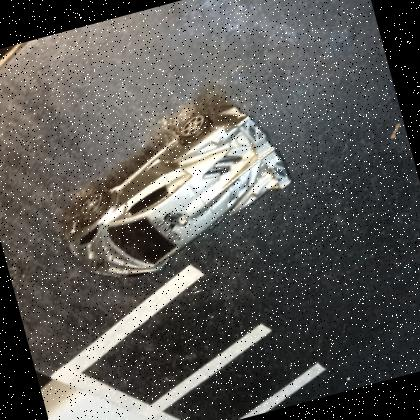Car: (39, 88, 308, 296)
